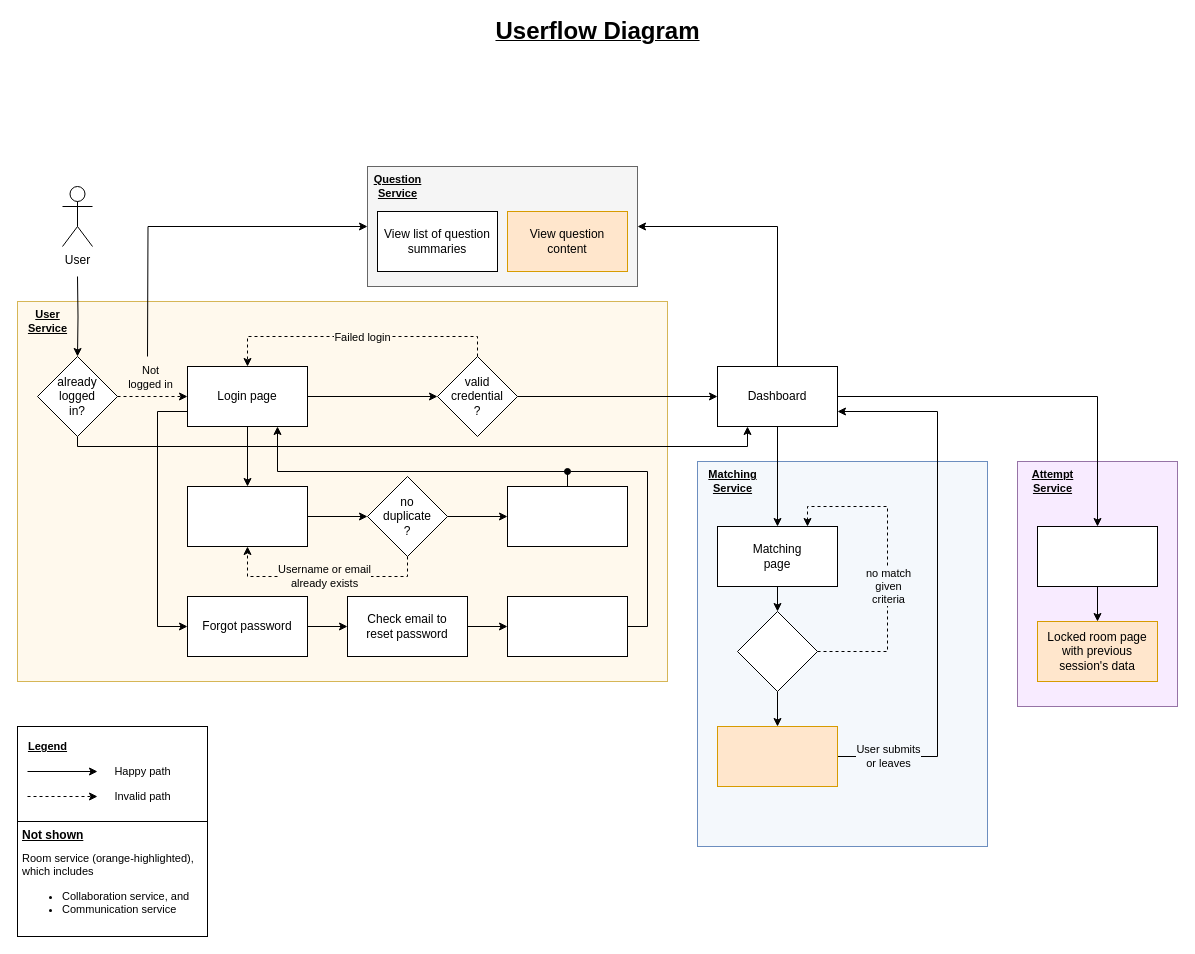
Image size: 1195x954. Some labels were removed from this diagram. The shapes that lost their labels are listed below. From the top down, each one's centre as x and y in pixels, then its label:
At (x=247, y=516): "Create account".
At (x=567, y=516): "Verify with email/OAuth".
At (x=1097, y=556): "Past sessions / history page".
At (x=567, y=626): "Reset password page".
At (x=777, y=651): "match found?".
At (x=777, y=756): "Room page with peer".
